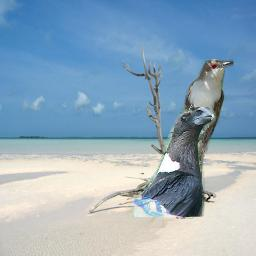Crow: (133, 107, 216, 217)
Cuckoo: (174, 57, 235, 219)
